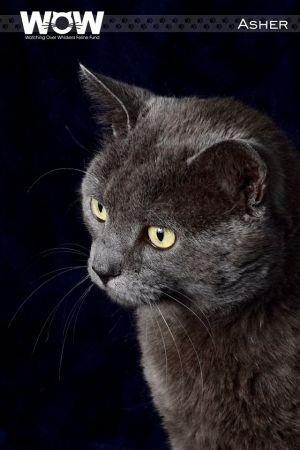rblue: (66, 54, 295, 318)
